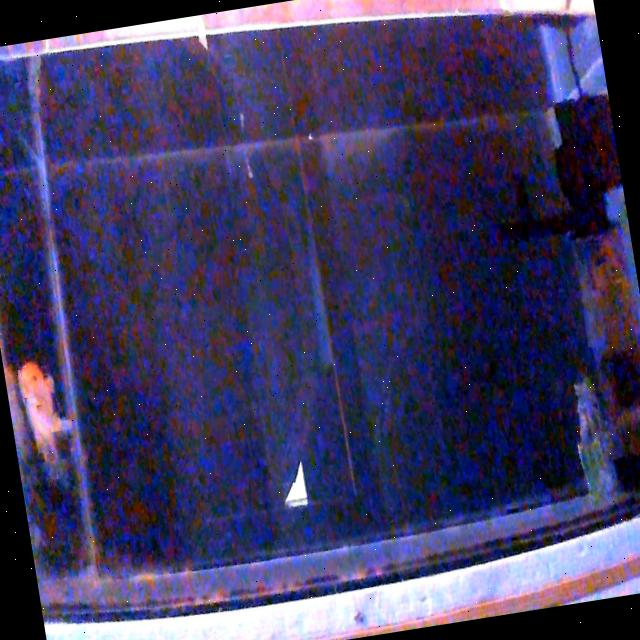fish: (14, 350, 80, 480)
